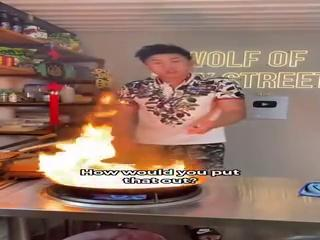Fire: (36, 120, 215, 186)
